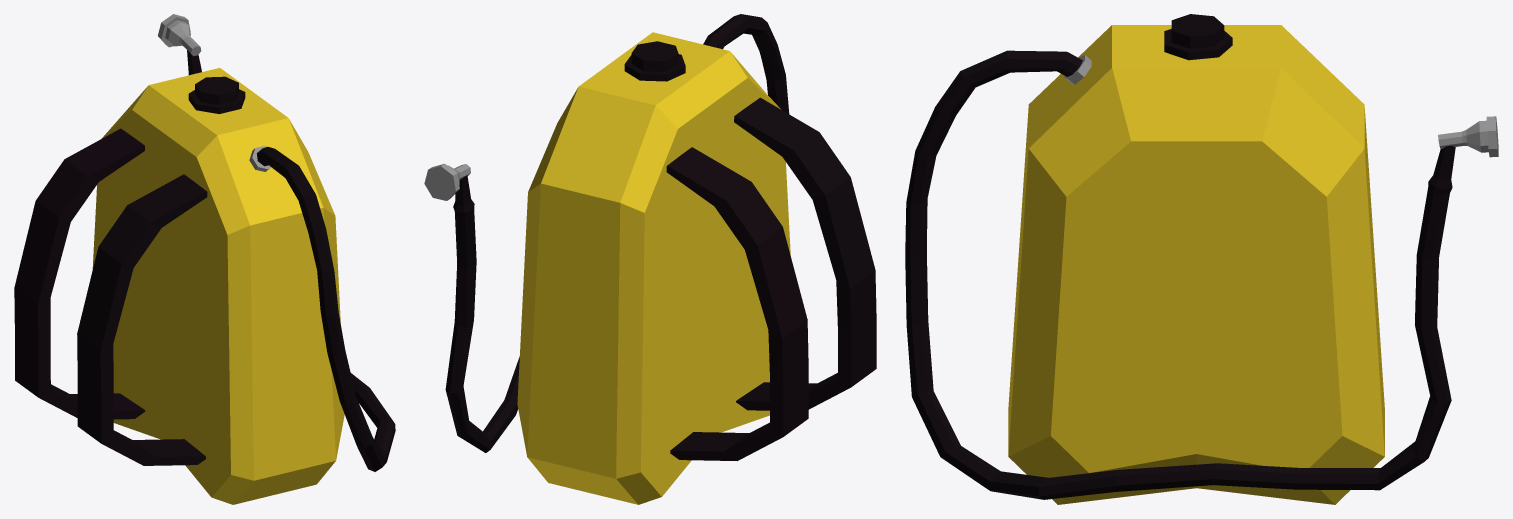
File: mochila.fbx
3 views of the same model, side by side, from view 1: azimuth 30°, elevation 25°; view 2: azimuth 150°, elevation 25°; view 3: azimuth 270°, elevation 25° (orthographic). The views are drawn at different scales.
Visible parts, largest first — view 1: Cube, Cube.001, Cube.002, Cylinder.002, Cylinder, Cylinder.003; view 2: Cube, Cube.002, Cube.001, Cylinder.002, Cylinder, Cylinder.003; view 3: Cube, Cylinder.002, Cylinder, Cylinder.003.
Boxes of the visible parts, x1,y1,x2,y2 form: Cube: (92,68,344,504); Cube.001: (77,174,207,465); Cube.002: (14,128,145,419); Cylinder.002: (187,50,395,471); Cylinder: (188,76,245,113); Cylinder.003: (158,14,201,56); Cube: (517,32,790,504); Cube.002: (666,147,808,461); Cube.001: (734,97,876,410); Cylinder.002: (445,14,789,452); Cylinder: (624,41,685,81); Cylinder.003: (424,163,470,200); Cube: (1008,25,1384,504); Cylinder.002: (905,50,1455,499); Cylinder: (1164,14,1232,60); Cylinder.003: (1438,116,1498,157).
Size of the model in its own units: 210 by 262 by 310.
